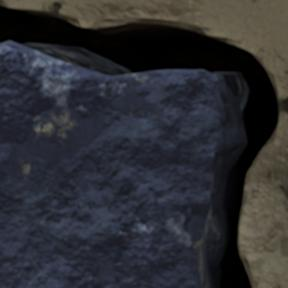brick: (0, 42, 245, 287)
crack: (0, 0, 286, 287)
